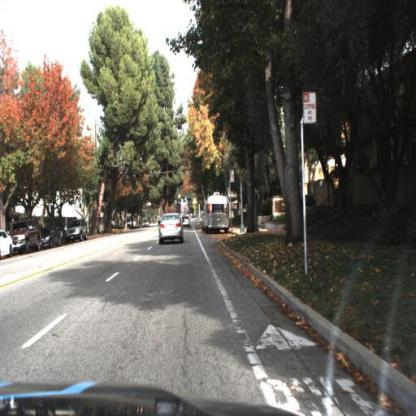car: (154, 203, 192, 250), (14, 215, 42, 257), (62, 214, 90, 247), (39, 221, 63, 254), (38, 224, 62, 248), (1, 230, 15, 264), (181, 211, 195, 233)
truck: (198, 189, 236, 238)
